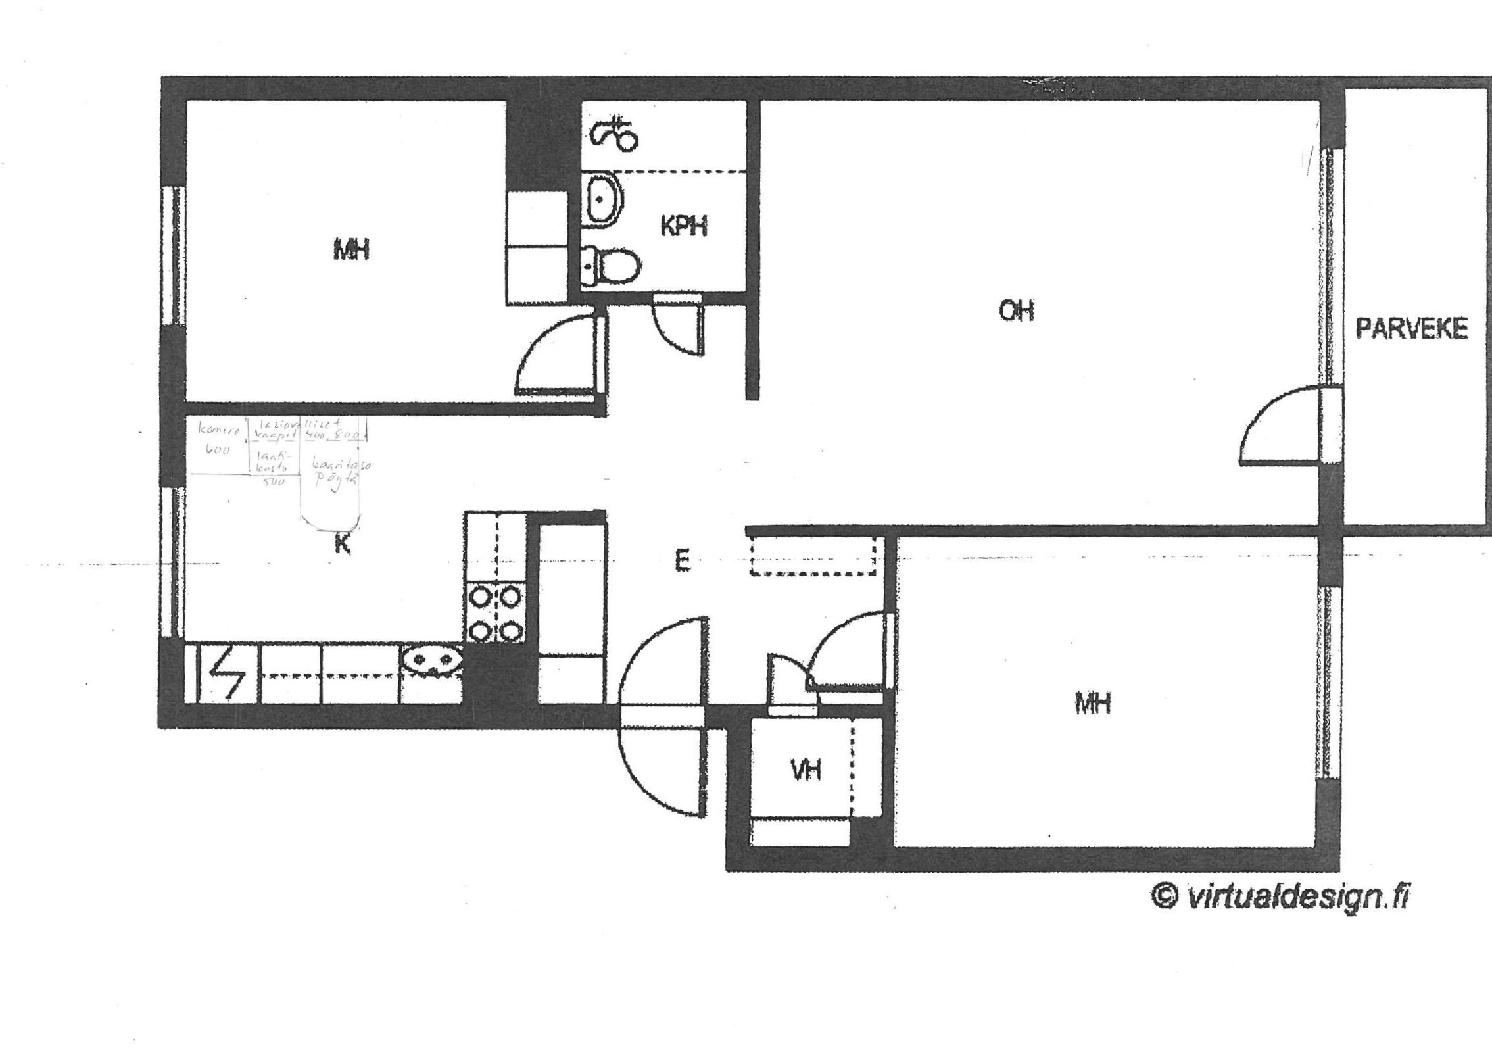door: (611, 595, 720, 828), (1223, 377, 1341, 483), (510, 306, 616, 414), (801, 603, 897, 696), (763, 643, 828, 732), (645, 283, 711, 367)
window: (1316, 139, 1347, 379), (1310, 586, 1342, 781), (158, 488, 186, 633), (159, 185, 186, 324)
zone: (189, 304, 878, 701), (760, 103, 1316, 527), (182, 94, 606, 406), (900, 532, 1310, 845), (1341, 83, 1485, 527), (584, 95, 747, 292)
